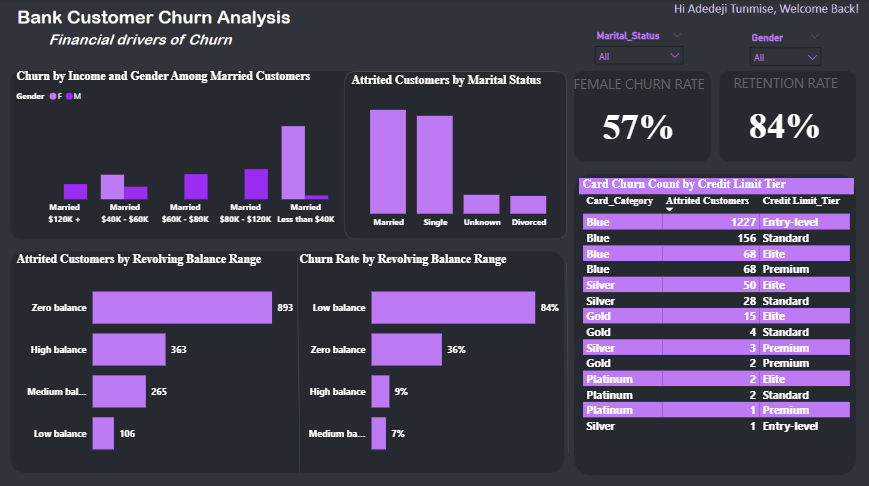

This screenshot's page, from the dashboard's own definition file:
{"tool":"powerbi","page":{"name":"Key churn drivers/customer profile","canvas":[1280,720],"ordinal":1},"visuals":[{"type":"tableEx","title":"Card Churn Count by Credit Limit Tier","fields":{"Values":["BankChurners.Card_Category","BankChurners.Attrited Customers","BankChurners.Credit Limit_Tier"]},"box":[851.8,263.6,403.9,429.4],"z":0},{"type":"clusteredColumnChart","title":"Churn by Income and Gender Among Married Customers","fields":{"Category":["BankChurners.Income_Category","BankChurners.Marital_Status"],"Y":["BankChurners.Churn_Count"],"Series":["BankChurners.Gender"]},"box":[19.8,104.9,506,240.9],"z":1000},{"type":"clusteredColumnChart","title":"Attrited Customers by Marital Status","fields":{"Y":["BankChurners.Churn_Count"],"Category":["BankChurners.Marital_Status"]},"box":[513.1,110.6,326,235.3],"z":2000},{"type":"cardVisual","title":"RETENTION RATE","fields":{"Data":["BankChurners.Retention rate"]},"box":[1054.5,109.1,201.3,121.9],"z":3000},{"type":"clusteredBarChart","title":"Attrited Customers by Revolving Balance Range","fields":{"Category":["BankChurners.Revolving balance range"],"Y":["BankChurners.Churn_Count"]},"box":[19.8,372.8,416.7,320.3],"z":4000},{"type":"clusteredBarChart","title":"Churn Rate by Revolving Balance Range","fields":{"Category":["BankChurners.Revolving balance range"],"Y":["BankChurners.Churn rate"]},"box":[436.5,372.8,392.6,320.3],"z":5000},{"type":"slicer","fields":{"Values":["BankChurners.Gender"]},"box":[1092.8,43.9,124.7,53.9],"z":6000},{"type":"slicer","fields":{"Values":["BankChurners.Marital_Status"]},"box":[866,41.1,150.2,56.7],"z":7000},{"type":"cardVisual","title":"FEMALE CHURN RATE","fields":{"Data":["BankChurners.FEMALE CHURN"]},"box":[839.1,110.6,202.7,120.5],"z":8000}]}

Visuals, with their boxes in screenshot pixels (x1, y1, x2, y2), scaled from the page's 1280x720 canvas onto the 869x486 screenshot:
"Card Churn Count by Credit Limit Tier" tableEx: left=578, top=178, right=853, bottom=468
"Churn by Income and Gender Among Married Customers" clusteredColumnChart: left=13, top=71, right=357, bottom=233
"Attrited Customers by Marital Status" clusteredColumnChart: left=348, top=75, right=570, bottom=233
"RETENTION RATE" cardVisual: left=716, top=74, right=853, bottom=156
"Attrited Customers by Revolving Balance Range" clusteredBarChart: left=13, top=252, right=296, bottom=468
"Churn Rate by Revolving Balance Range" clusteredBarChart: left=296, top=252, right=563, bottom=468
slicer - BankChurners.Gender: left=742, top=30, right=827, bottom=66
slicer - BankChurners.Marital_Status: left=588, top=28, right=690, bottom=66
"FEMALE CHURN RATE" cardVisual: left=570, top=75, right=707, bottom=156
